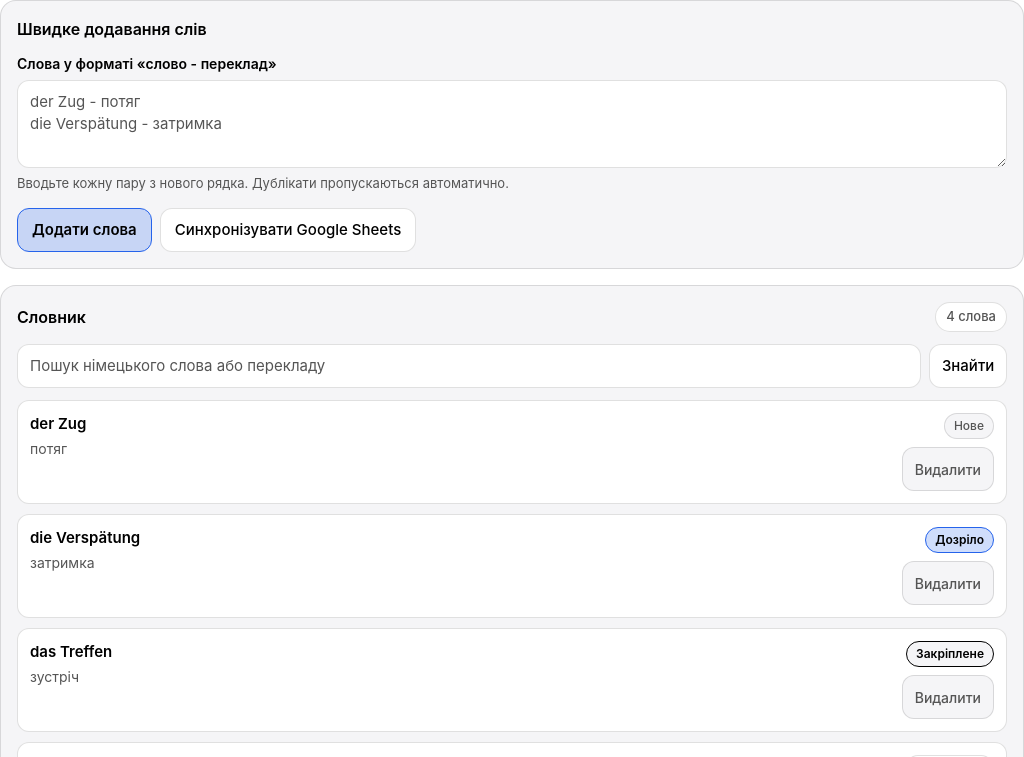
Test: DictionaryPage › searches words, distinguishes empty search result from empty dictionary, and clears search
Expected: the text "der Zug" is shown, [30,413,86,436]
Note: Search by Ukrainian translation
Type "потяг" into the search field named "Пошук у словнику" at (469, 366), box [17,344,921,388]
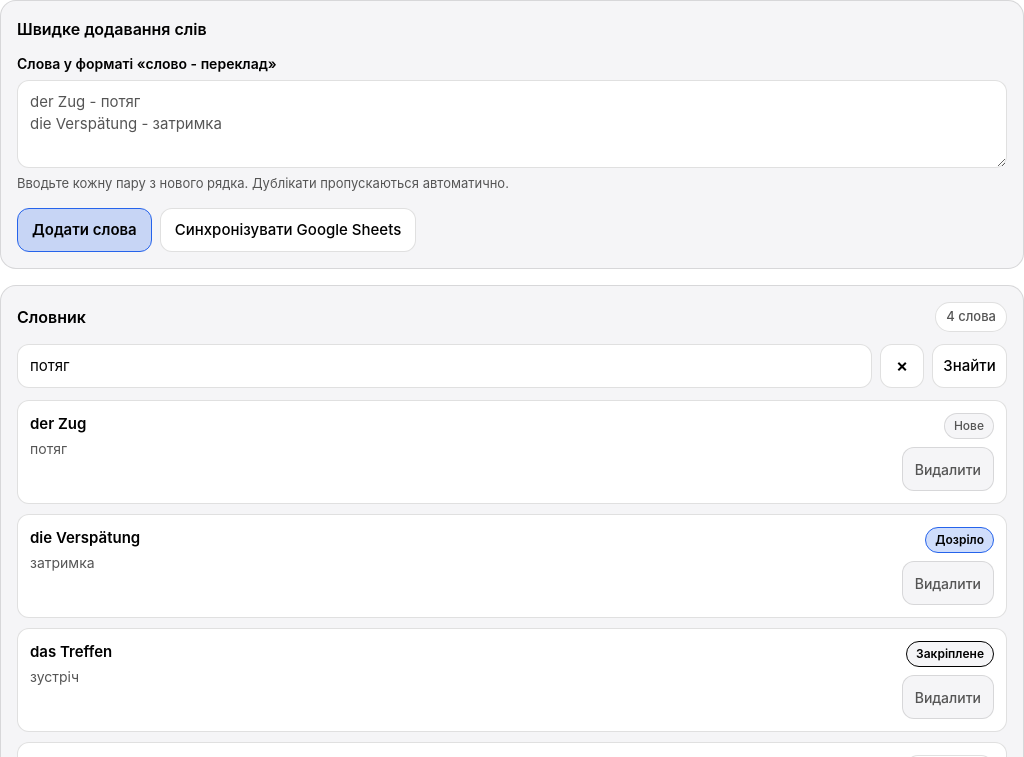
Submit the form named "Пошук у словнику", box [17,344,1007,388]
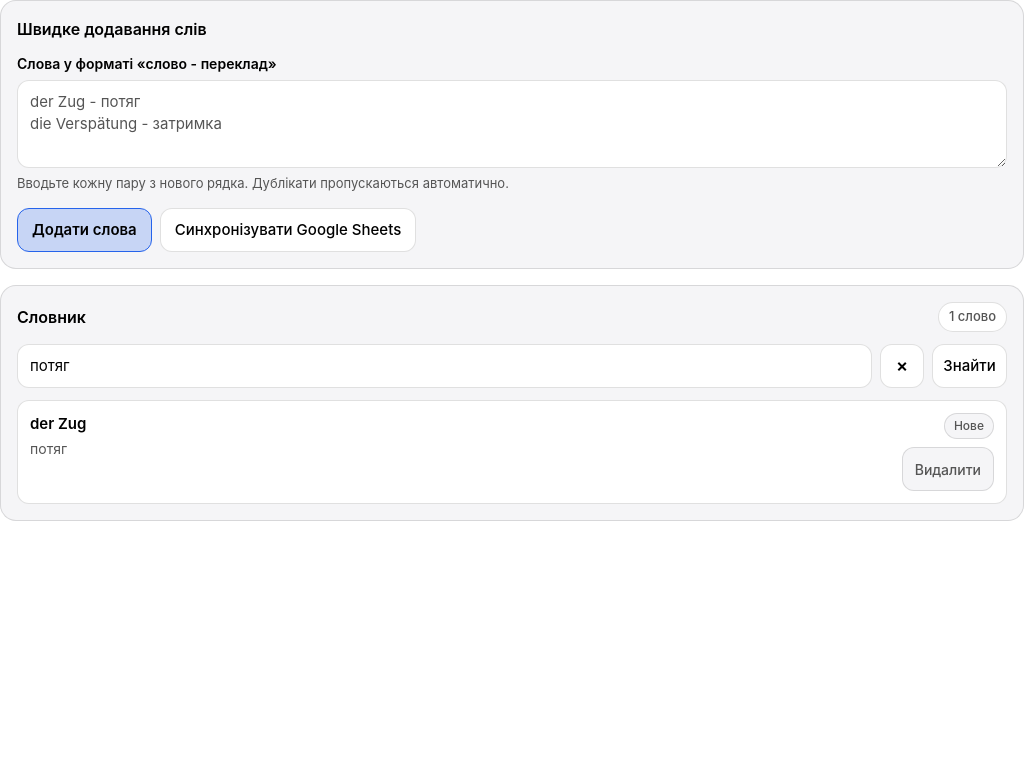
Expected: the text "der Zug" is shown, [30,413,86,436]
Now the text "1 слово" is shown, box [938,302,1007,332]
Replace the text in the search field named "Пошук у словнику" with "Bahnhof" at (444, 366), box [17,344,872,388]
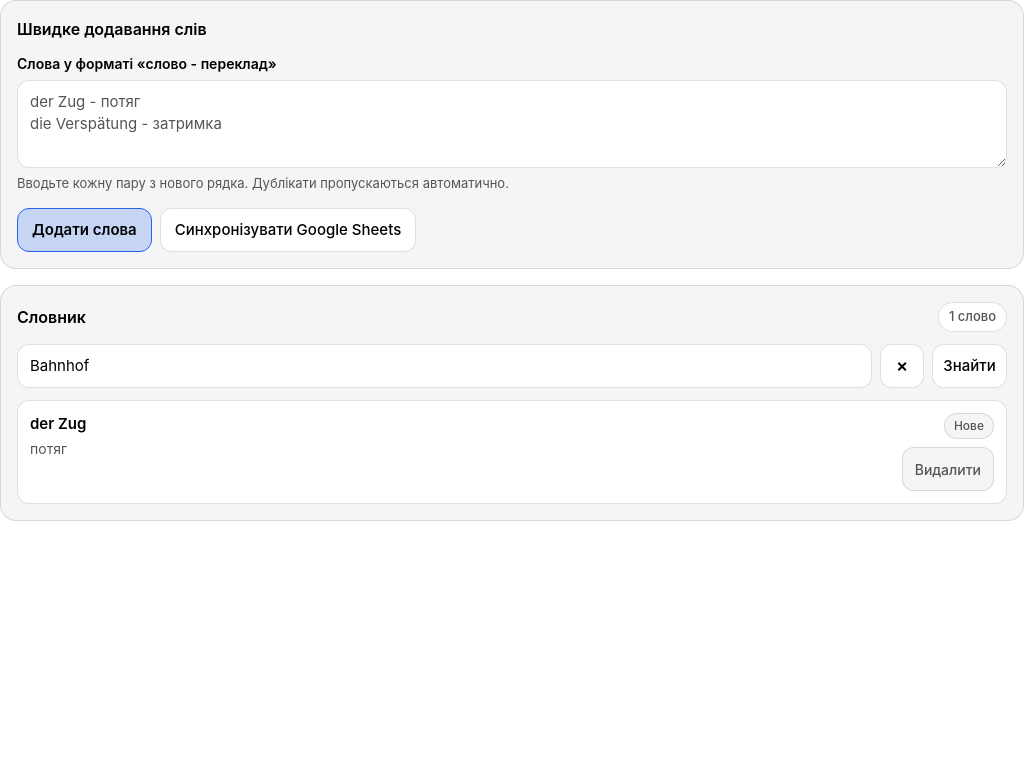
Submit the form named "Пошук у словнику", box [17,344,1007,388]
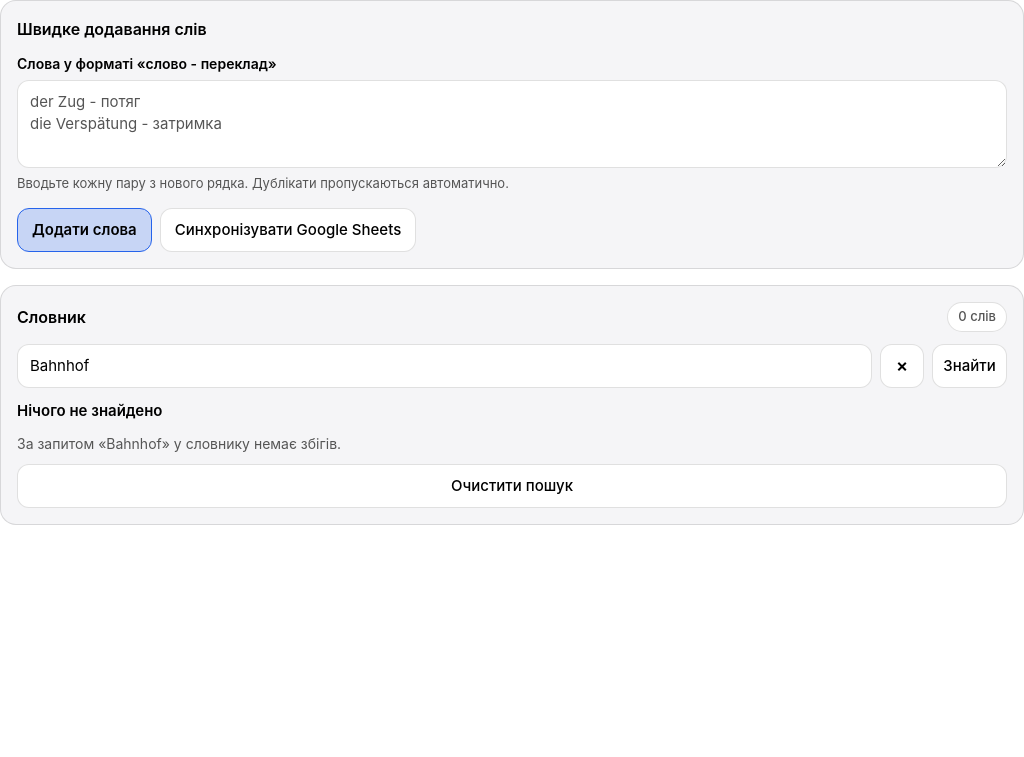
Now the heading "Нічого не знайдено" is shown, box [17,401,162,420]
Now the text "За запитом «Bahnhof» у словнику немає збігів." is shown, box [17,434,341,452]
Click the button "Очистити пошук" at (512, 486), box [17,464,1007,508]
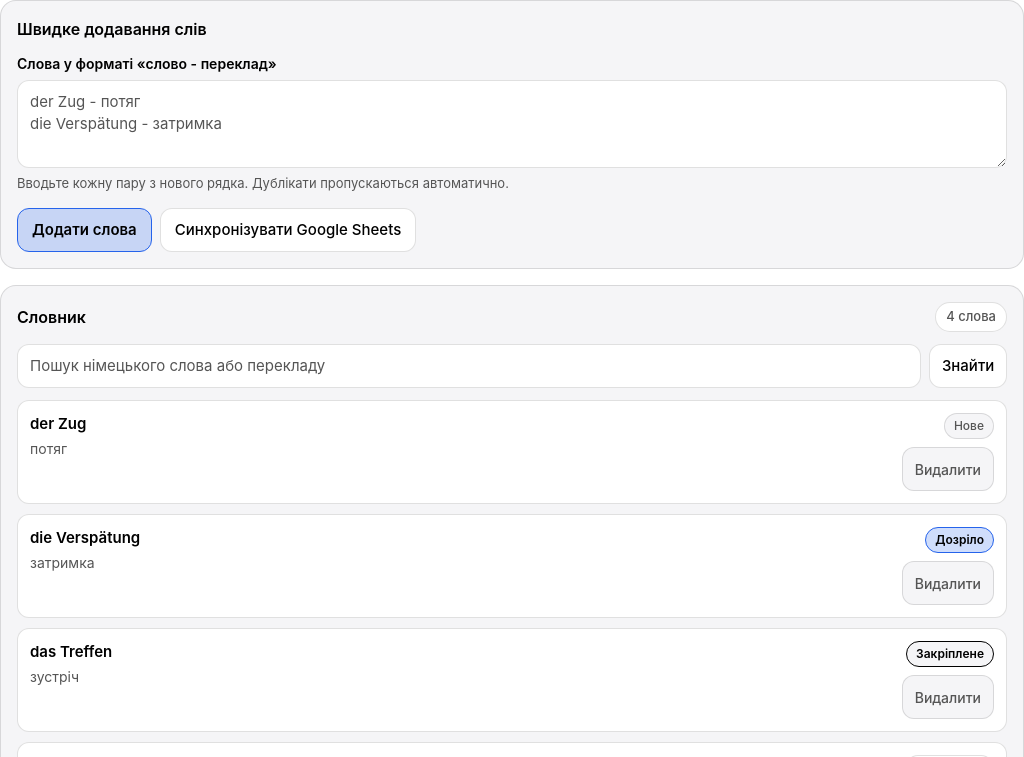
Now the text "die Verspätung" is shown, box [30,527,140,550]
Now the search field named "Пошук у словнику" is empty, box [17,344,921,388]
